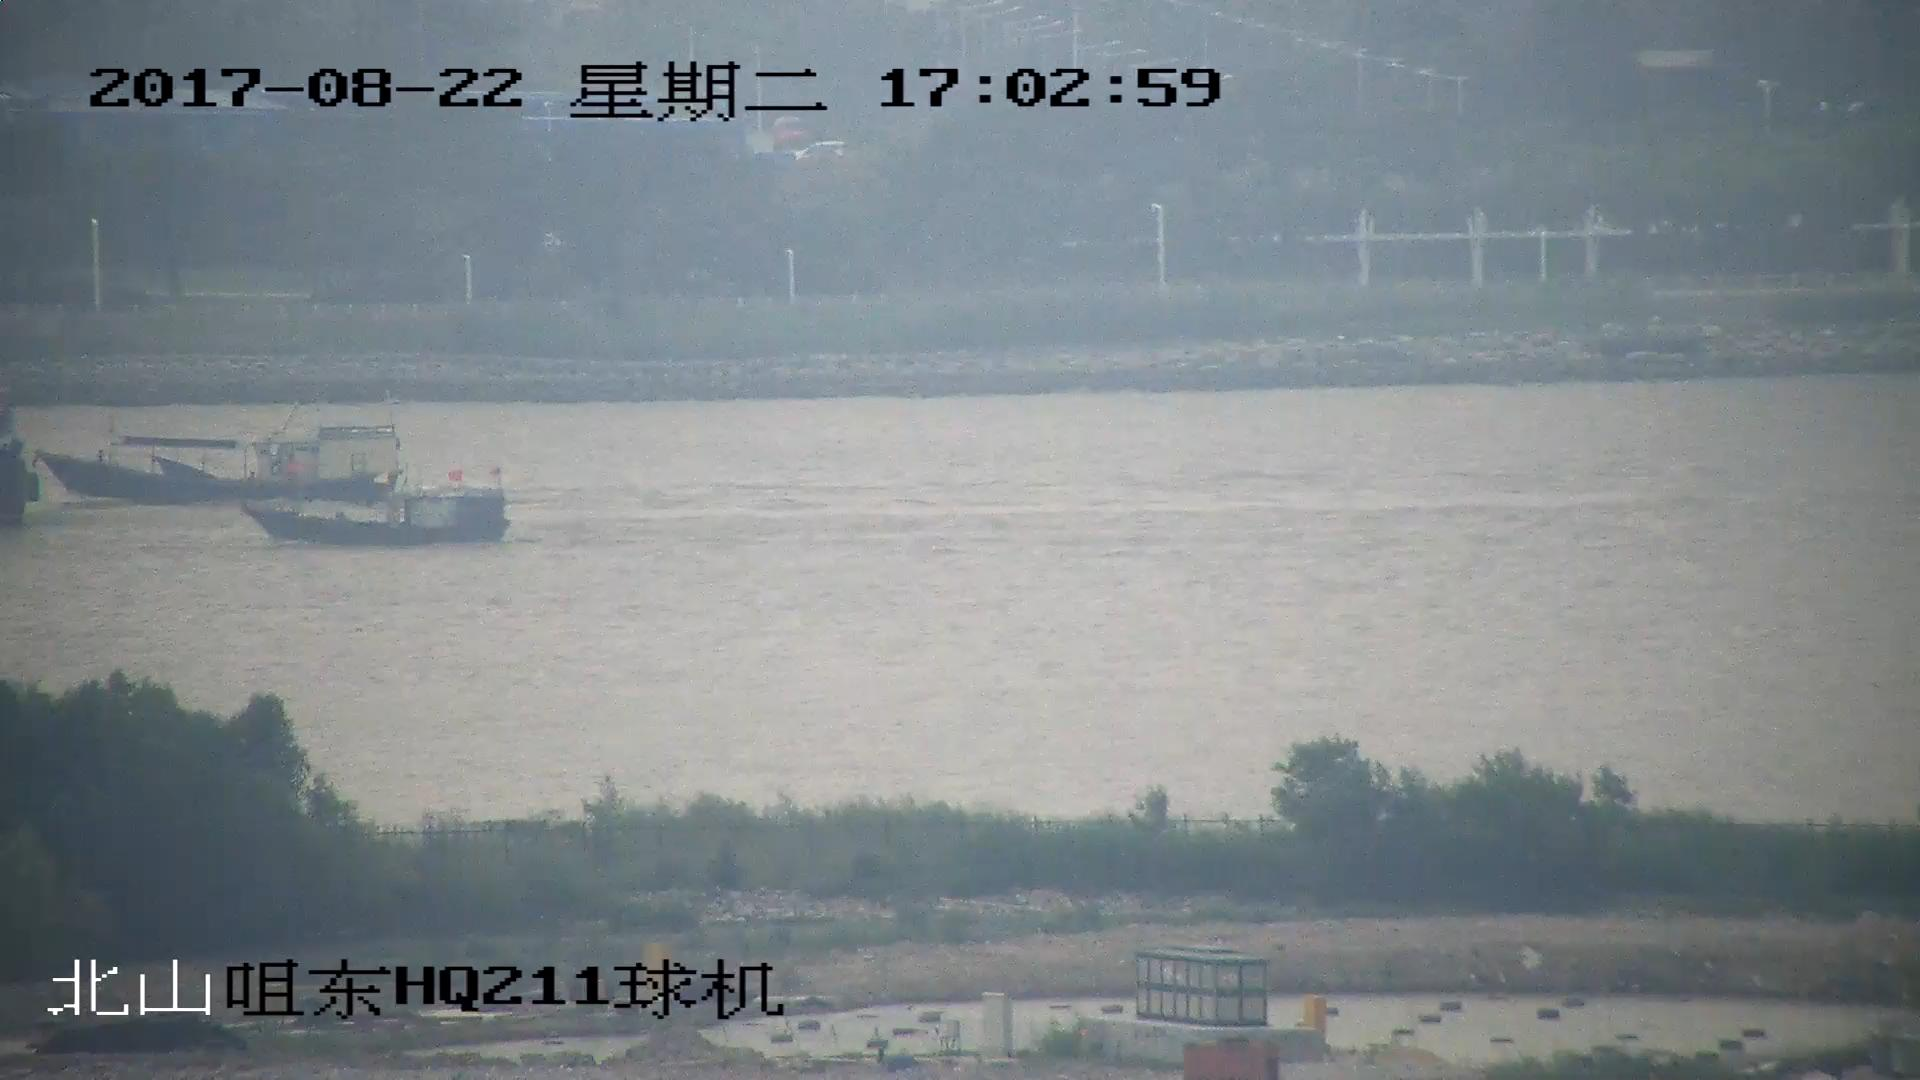fishing boat: (40, 412, 418, 503), (253, 478, 516, 546)
